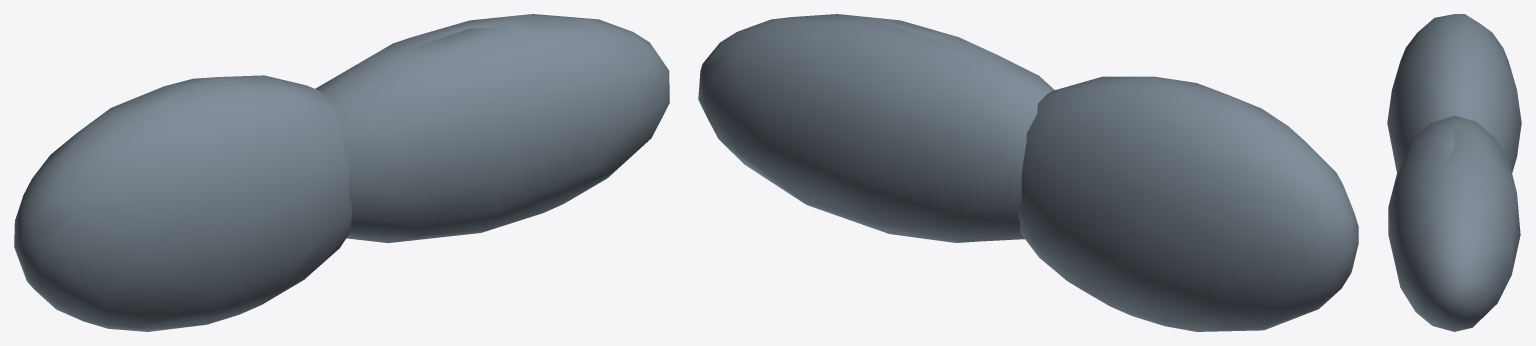
The model's file is f46-hill-ridge-far.lod1.glb.
3 views of the same model, side by side, from view 1: azimuth 30°, elevation 25°; view 2: azimuth 150°, elevation 25°; view 3: azimuth 270°, elevation 25° (orthographic). The views are drawn at different scales.
Parts seen in each view (by area): view 1: part0, part1; view 2: part0, part1; view 3: part1, part0.
Part boxes in pixels (x1,y1,x2,y2): part0: [14, 75, 352, 331]; part1: [315, 14, 669, 243]; part0: [1017, 76, 1358, 331]; part1: [698, 14, 1054, 242]; part1: [1388, 115, 1520, 331]; part0: [1387, 14, 1521, 173].
Bounding box in the file's own units: 259445 × 90010 × 59960.
